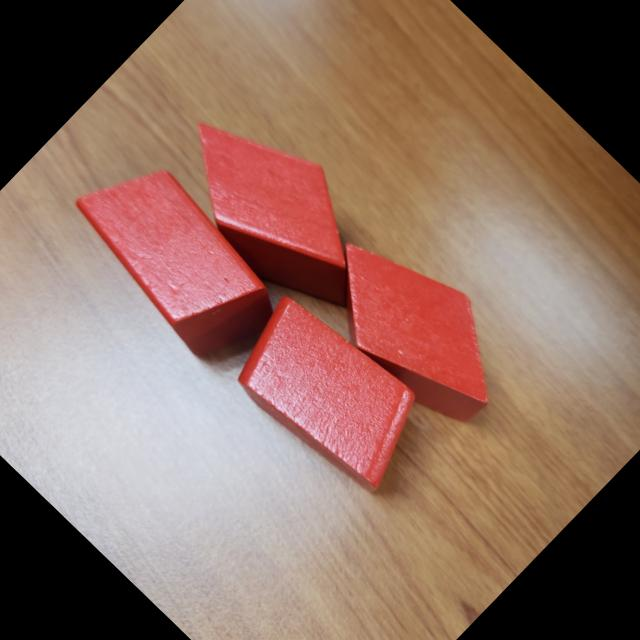red: (150, 85, 407, 338), (55, 140, 295, 376), (298, 207, 534, 442), (214, 278, 445, 508)
